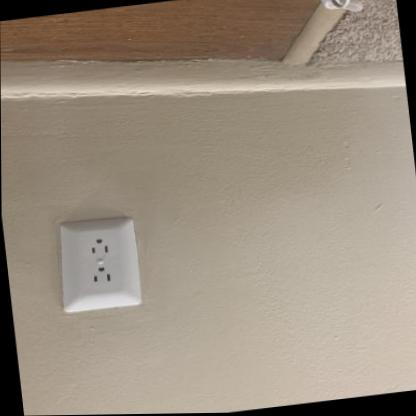OUTLET: (55, 212, 143, 317)
